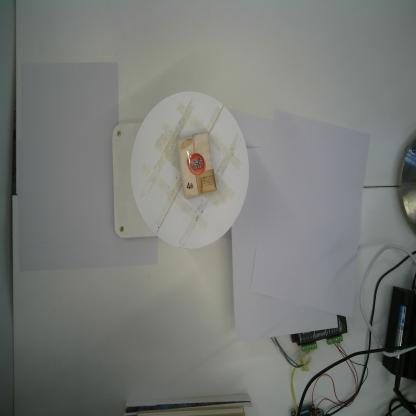Tissue: (176, 130, 218, 200)
